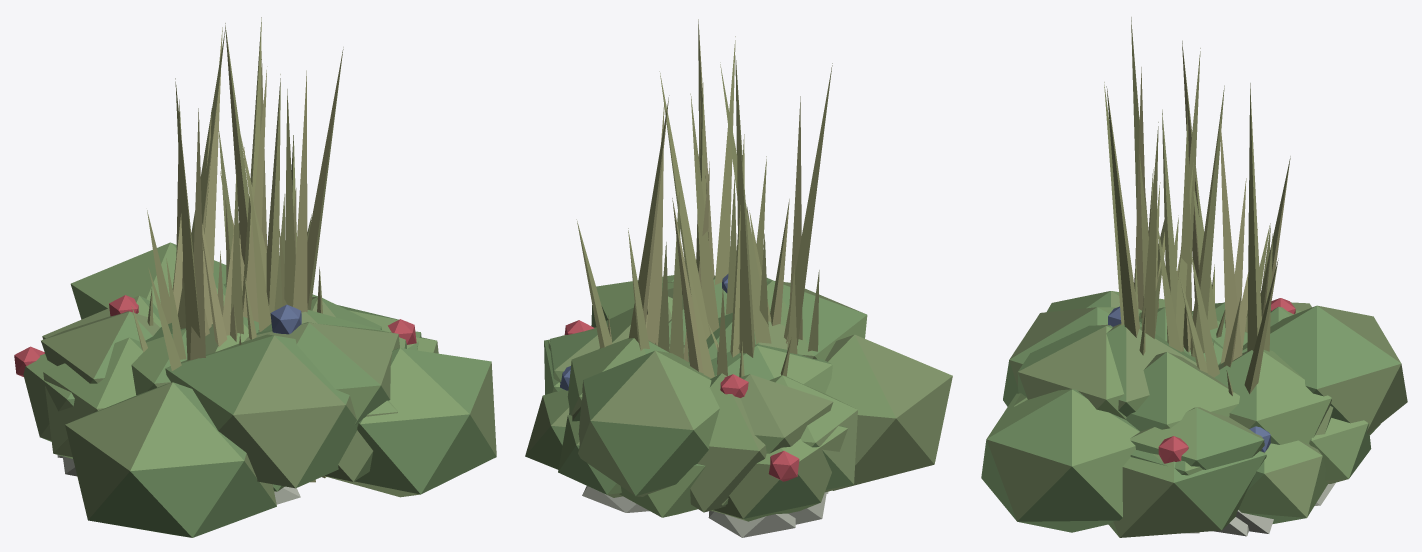
Rendered from plants.glb.
3 renders of one model, left to right at view 1: azimuth 30°, elevation 25°; view 2: azimuth 150°, elevation 25°; view 3: azimuth 270°, elevation 25°, orthographic. The views are drawn at different scales.
Parts seen in each view (by area): view 1: Blueberry1, Lingonberry0, Shrub2, TallGrass2, Lingonberry2, TallGrass1, Blueberry2, TallGrass0, Lingonberry1, Shrub1, Grass2, Grass0 (+1 smaller); view 2: Blueberry1, Lingonberry2, TallGrass2, Lingonberry0, Lingonberry1, TallGrass1, TallGrass0, Shrub1, Shrub2, Blueberry2, Grass2, Grass0 (+5 smaller); view 3: Shrub2, Blueberry1, Lingonberry1, Blueberry2, TallGrass2, Lingonberry0, Lingonberry2, TallGrass0, TallGrass1, Shrub1, Grass2, Grass0 (+3 smaller).
Boxes of the visible parts, x1,y1,x2,y2 form: Blueberry1: [65, 242, 406, 537]; Lingonberry0: [42, 295, 381, 488]; Shrub2: [324, 348, 496, 497]; TallGrass2: [175, 23, 343, 360]; Lingonberry2: [41, 283, 317, 458]; TallGrass1: [166, 17, 295, 359]; Blueberry2: [244, 304, 399, 424]; TallGrass0: [190, 51, 284, 360]; Lingonberry1: [14, 319, 438, 441]; Shrub1: [131, 310, 384, 395]; Grass2: [131, 135, 325, 482]; Grass0: [147, 171, 244, 370]; Blueberry1: [550, 327, 952, 496]; Lingonberry2: [567, 312, 857, 492]; TallGrass2: [628, 19, 832, 373]; Lingonberry0: [599, 280, 867, 512]; Lingonberry1: [544, 320, 847, 521]; TallGrass1: [659, 50, 797, 357]; TallGrass0: [646, 82, 802, 359]; Shrub1: [662, 276, 832, 393]; Shrub2: [591, 275, 767, 517]; Blueberry2: [525, 274, 772, 469]; Grass2: [576, 219, 791, 378]; Grass0: [647, 242, 819, 376]; Shrub2: [981, 389, 1380, 532]; Blueberry1: [1046, 291, 1407, 469]; Lingonberry1: [1108, 418, 1371, 537]; Blueberry2: [1017, 306, 1328, 523]; TallGrass2: [1104, 17, 1290, 372]; Lingonberry0: [1003, 306, 1301, 431]; Lingonberry2: [1139, 298, 1331, 444]; TallGrass0: [1135, 67, 1246, 361]; TallGrass1: [1141, 40, 1224, 357]; Shrub1: [1106, 311, 1247, 416]; Grass2: [1139, 223, 1278, 394]; Grass0: [1158, 224, 1270, 367].
Size of the model in its own units: 1.15 by 1.35 by 1.16.
